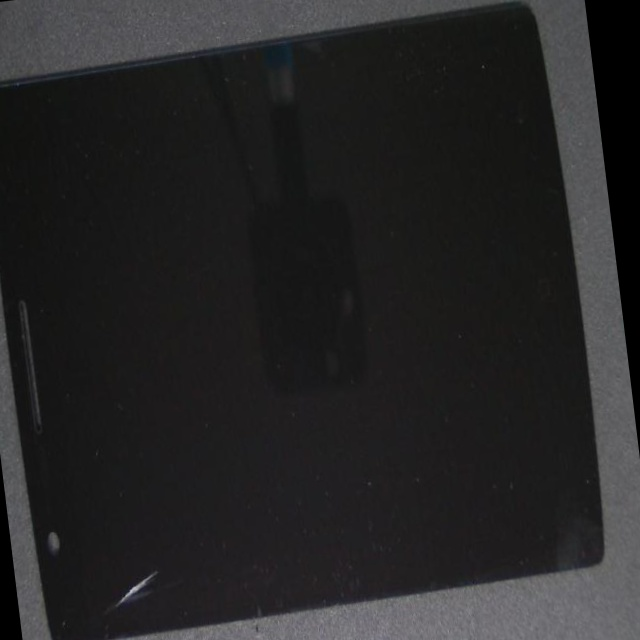scratch: (22, 269, 163, 640)
